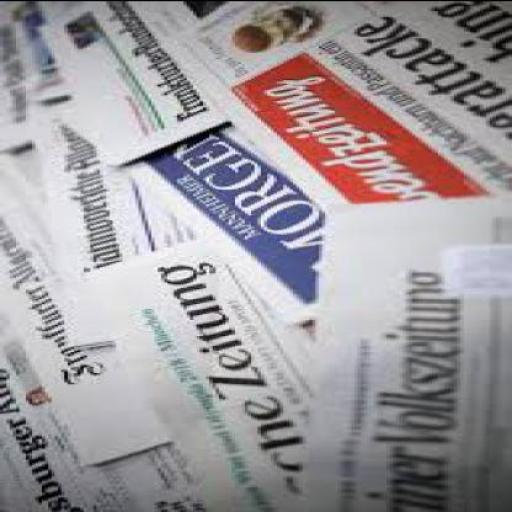paper: (174, 1, 509, 208), (300, 206, 509, 512), (77, 238, 306, 510), (0, 225, 194, 510), (4, 150, 174, 467), (122, 121, 319, 325), (29, 103, 174, 351), (36, 2, 235, 169), (4, 2, 48, 153)
